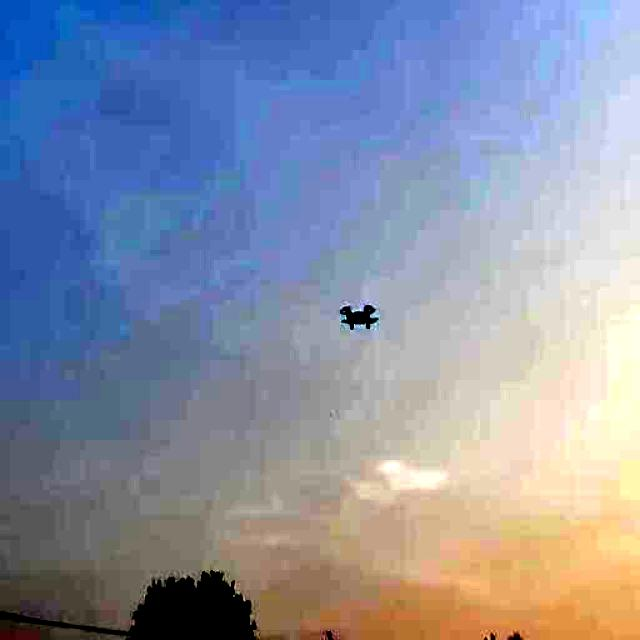bird: (336, 288, 385, 336)
